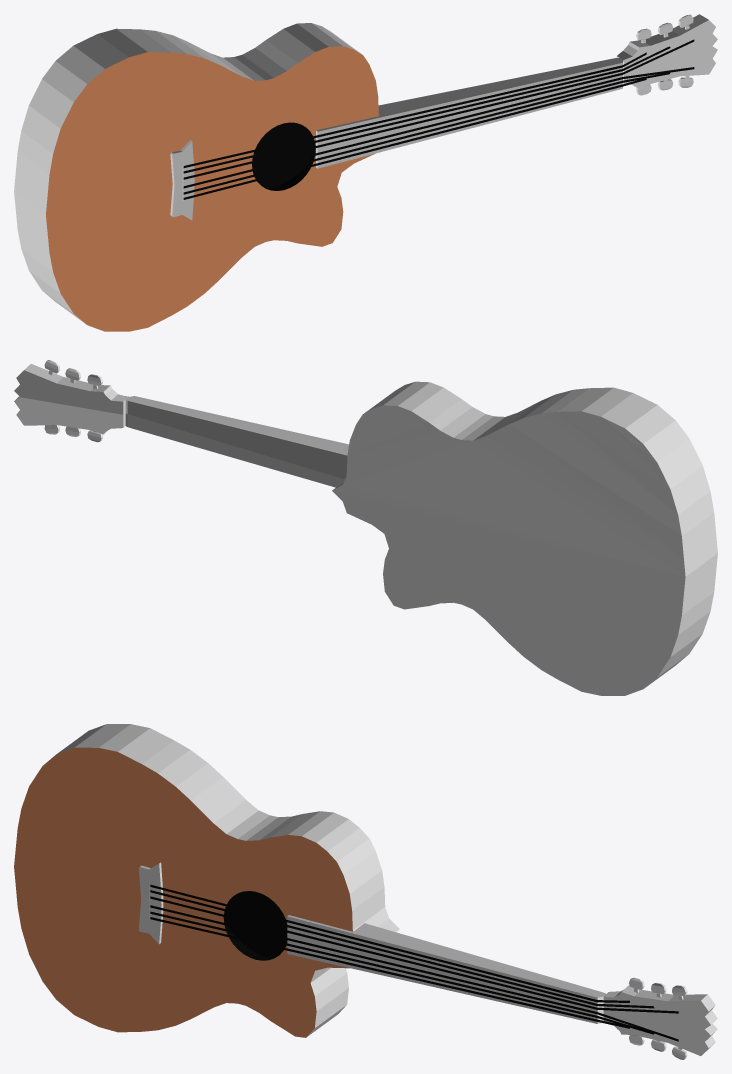
File: guitar.glb
3 renders of one model, top to bottom at view 1: azimuth 30°, elevation 25°; view 2: azimuth 150°, elevation 25°; view 3: azimuth 330°, elevation 25°, orthographic.
Visible parts, largest first — view 1: Circle; view 2: Circle; view 3: Circle.
Boxes of the visible parts, left/top/right/bottom form: Circle: left=14, top=14, right=717, bottom=331; Circle: left=14, top=360, right=717, bottom=695; Circle: left=14, top=724, right=717, bottom=1059.
Bounding box in the file's own units: 7.85 × 3.05 × 0.676.
